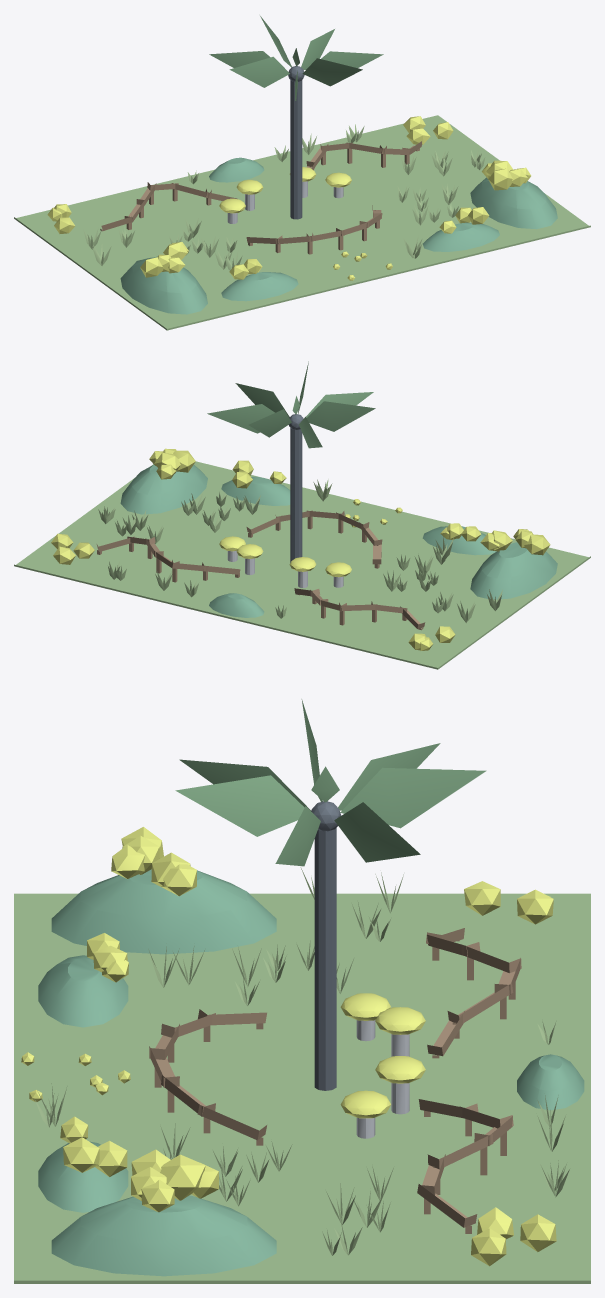
3 views of the same model, one above another, from view 1: azimuth 30°, elevation 25°; view 2: azimuth 150°, elevation 25°; view 3: azimuth 270°, elevation 25° (orthographic). The views are drawn at different scales.
Parts seen in each view (by area): view 1: Safety_Pad, Terrain, Foliage, Tree_Canopy, Grass_Tufts, Tree_Trunk, Mushroom_Caps, Root_Beam, Root_Beam_C, Root_Beam_B, Mushroom_Stems; view 2: Safety_Pad, Terrain, Foliage, Tree_Canopy, Grass_Tufts, Tree_Trunk, Mushroom_Caps, Root_Beam_C, Root_Beam_B, Root_Beam, Mushroom_Stems; view 3: Safety_Pad, Terrain, Tree_Canopy, Foliage, Tree_Trunk, Grass_Tufts, Mushroom_Caps, Root_Beam_C, Root_Beam_B, Root_Beam, Mushroom_Stems, Root_Beam_B_Posts (+1 smaller).
Boxes of the visible parts, x1=… form: Safety_Pad: x1=14, y1=115, x2=590, y2=330; Terrain: x1=120, y1=157, x2=557, y2=314; Foliage: x1=47, y1=116, x2=531, y2=280; Tree_Canopy: x1=209, y1=16, x2=383, y2=100; Grass_Tufts: x1=83, y1=124, x2=485, y2=270; Tree_Trunk: x1=288, y1=66, x2=304, y2=219; Mushroom_Caps: x1=219, y1=167, x2=351, y2=213; Root_Beam: x1=101, y1=182, x2=237, y2=230; Root_Beam_C: x1=246, y1=205, x2=382, y2=244; Root_Beam_B: x1=306, y1=141, x2=421, y2=169; Mushroom_Stems: x1=227, y1=181, x2=343, y2=223; Safety_Pad: x1=14, y1=461, x2=590, y2=669; Terrain: x1=120, y1=464, x2=557, y2=617; Foliage: x1=51, y1=448, x2=550, y2=650; Tree_Canopy: x1=207, y1=361, x2=375, y2=448; Grass_Tufts: x1=98, y1=479, x2=502, y2=622; Tree_Trunk: x1=289, y1=414, x2=303, y2=562; Mushroom_Caps: x1=219, y1=536, x2=351, y2=577; Root_Beam_C: x1=246, y1=510, x2=382, y2=564; Root_Beam_B: x1=96, y1=536, x2=240, y2=574; Root_Beam: x1=294, y1=588, x2=425, y2=628; Mushroom_Stems: x1=227, y1=551, x2=343, y2=587; Safety_Pad: x1=14, y1=893, x2=590, y2=1283; Terrain: x1=38, y1=869, x2=584, y2=1276; Tree_Canopy: x1=175, y1=699, x2=486, y2=866; Foliage: x1=21, y1=827, x2=556, y2=1266; Tree_Trunk: x1=311, y1=801, x2=341, y2=1090; Grass_Tufts: x1=35, y1=867, x2=569, y2=1255; Mushroom_Caps: x1=340, y1=993, x2=425, y2=1118; Root_Beam_C: x1=149, y1=1009, x2=266, y2=1140; Root_Beam_B: x1=417, y1=1099, x2=513, y2=1227; Root_Beam: x1=426, y1=928, x2=521, y2=1056; Mushroom_Stems: x1=356, y1=1020, x2=409, y2=1138; Root_Beam_B_Posts: x1=424, y1=1110, x2=506, y2=1233.
Size of what is drawn, in the model's own units: 8 by 3.09 by 5.
8 materials, 2 textured.
